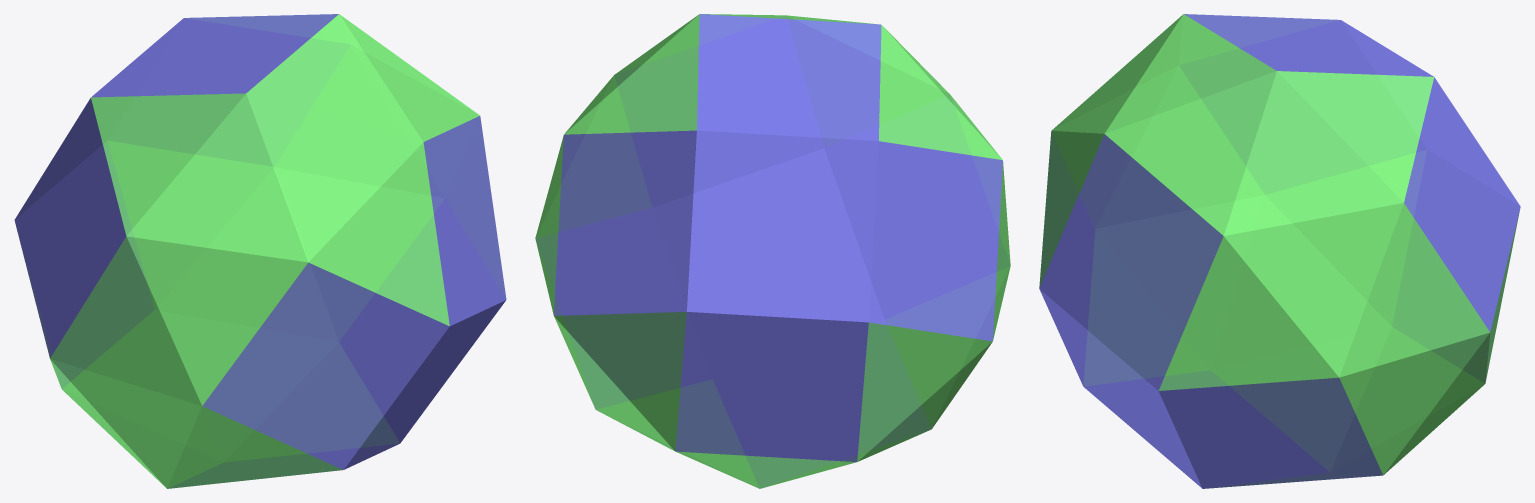
The model's file is j45_gyroelongated_square_bicupola.obj.
The picture shows the model from 3 angles, left to right: view 1: azimuth 30°, elevation 25°; view 2: azimuth 150°, elevation 25°; view 3: azimuth 270°, elevation 25°; orthographic projection. The views are drawn at different scales.
Bounding box in the file's own units: 1.96 × 1.93 × 1.89.
